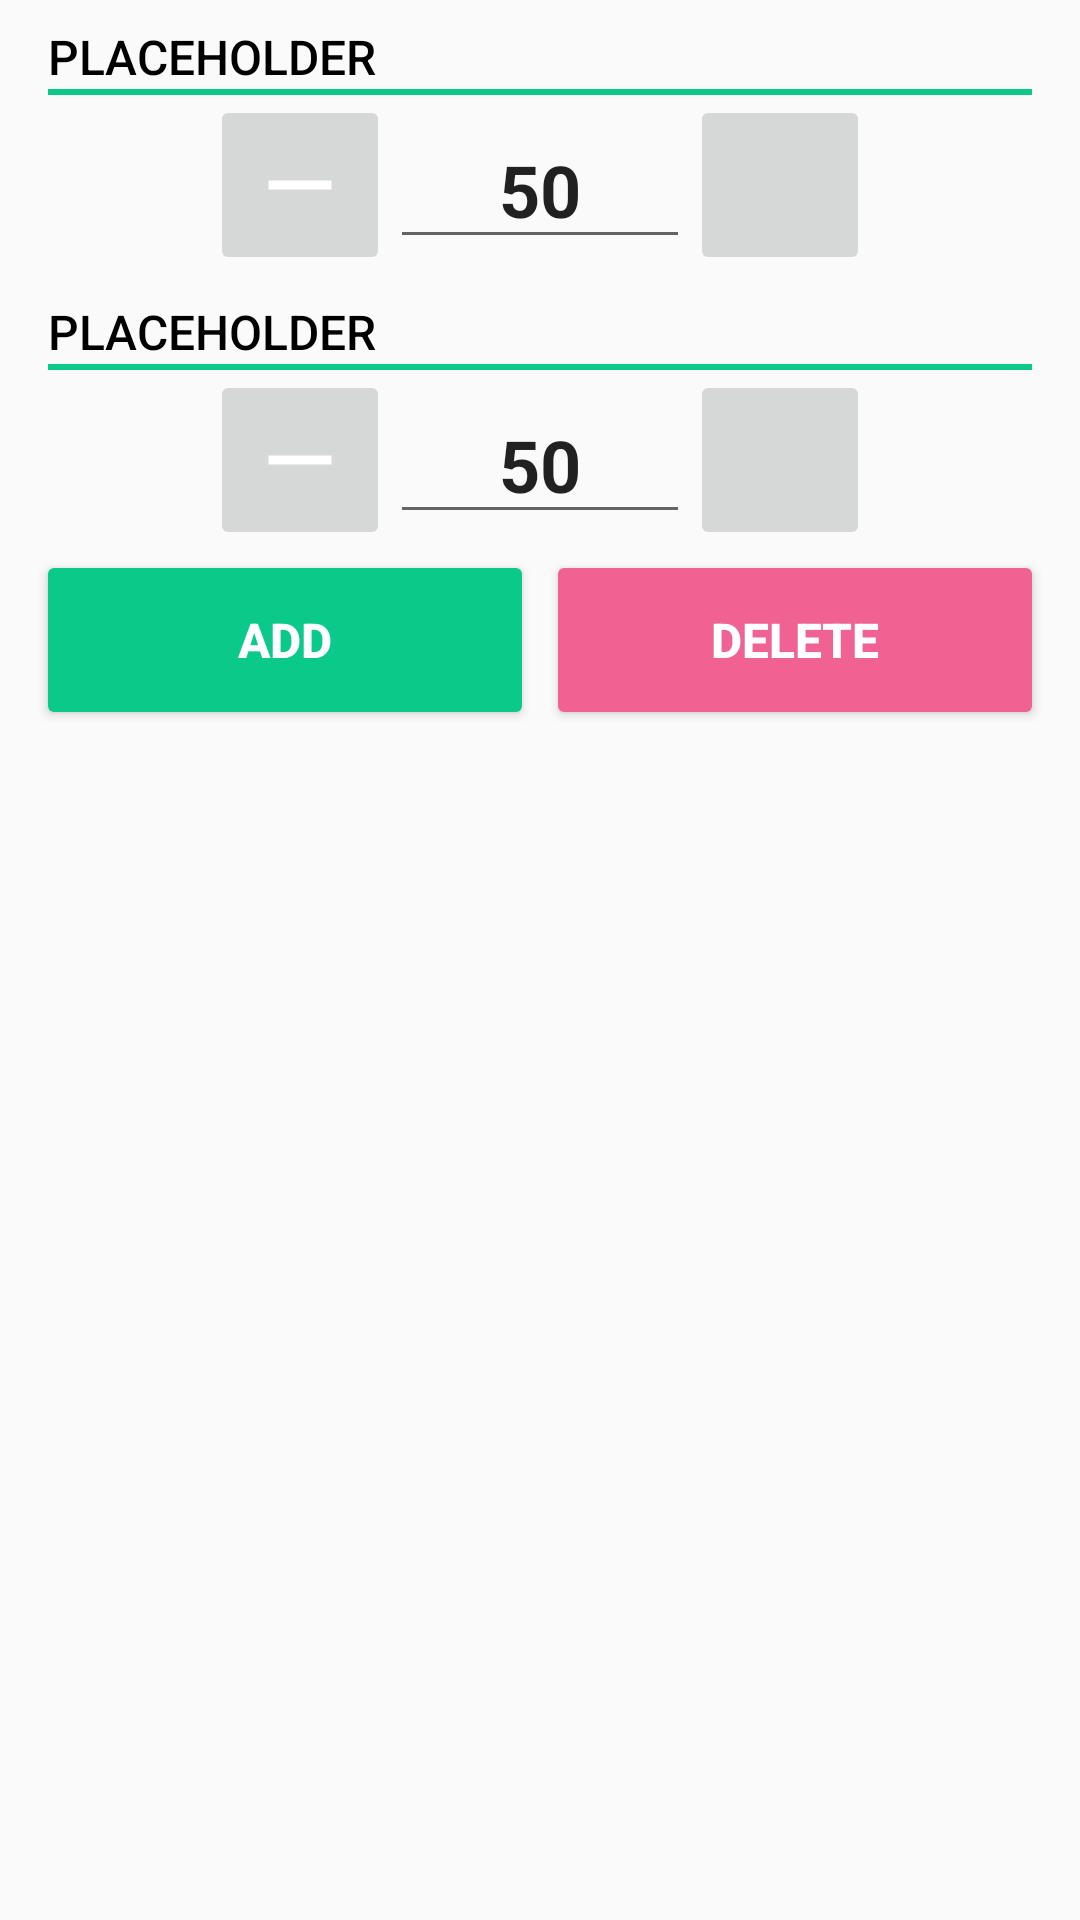

Screen size 1080w x 1920h. Icon name, then its box in pixels as (x1, y1, x2, y2):
subtract: (222, 113, 378, 257), (222, 388, 378, 532)
